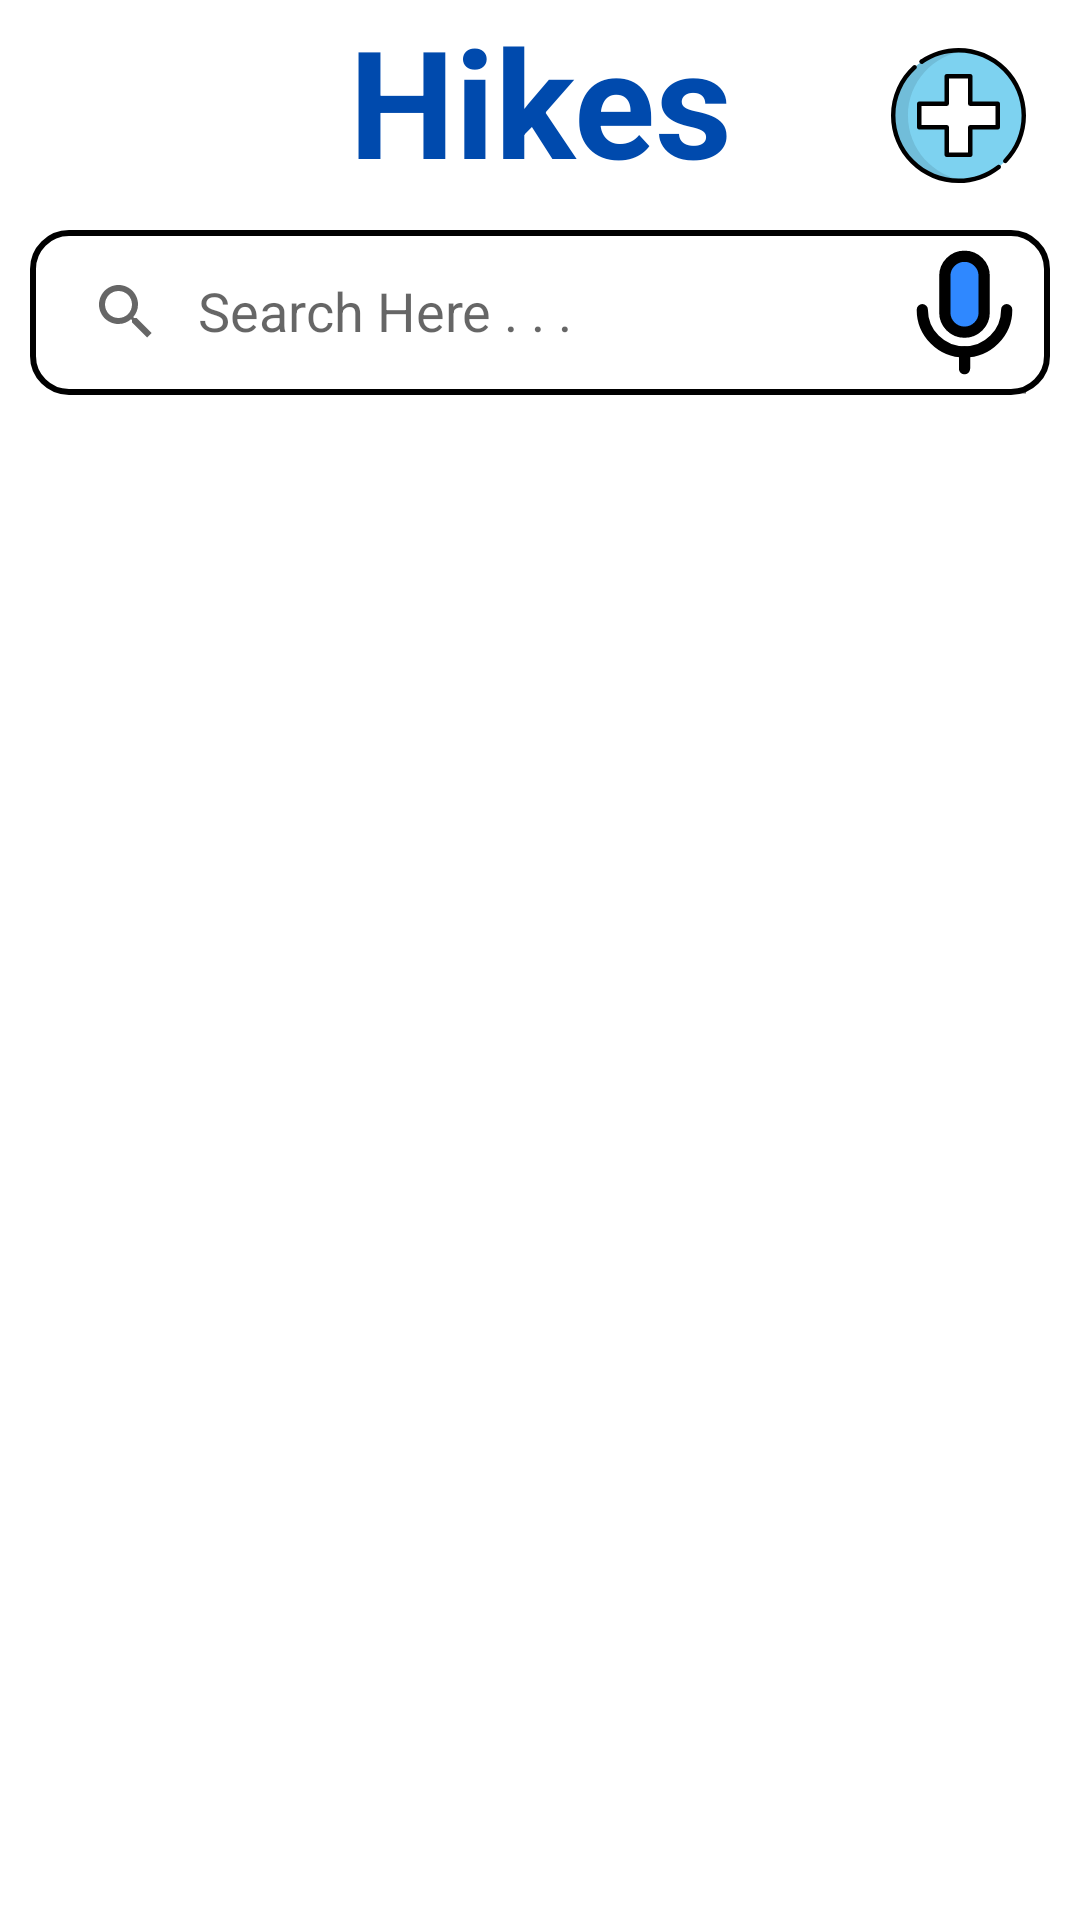

Point at icon controls on the screen. Image size 1080×1920, points as [x,y].
add plus: [958,115]
voice: [964,312]
